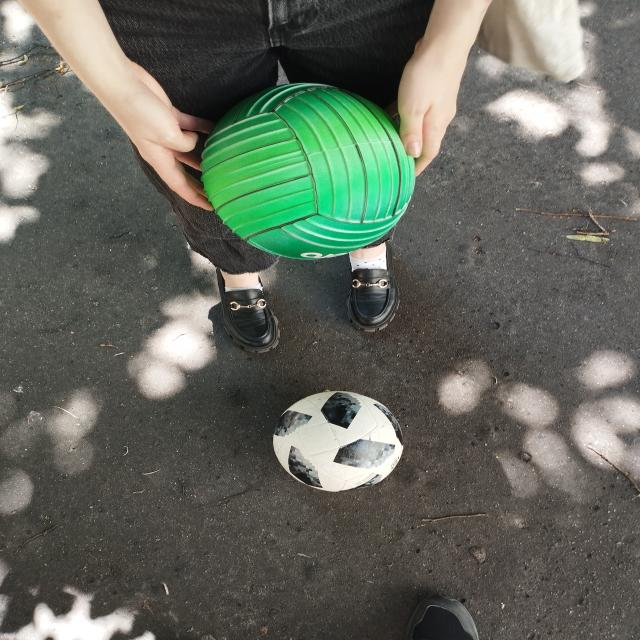nozna: (273, 391, 404, 492)
zielona: (201, 83, 416, 260)
